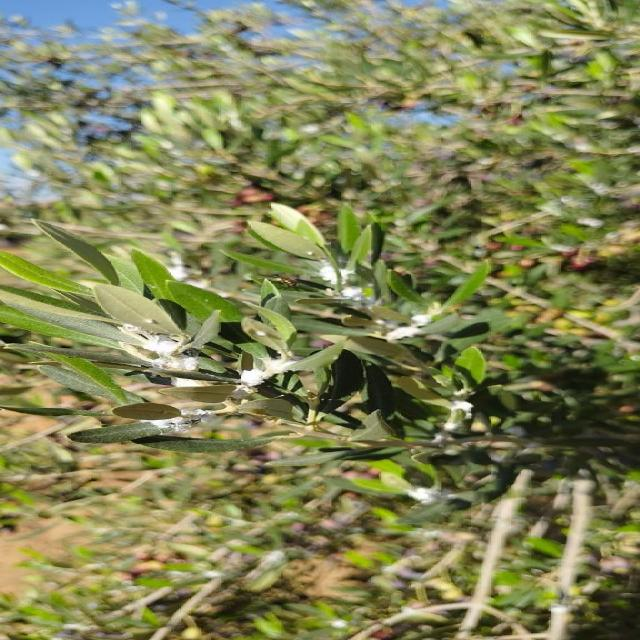Psyllid: (114, 324, 202, 372), (319, 261, 377, 310), (384, 302, 443, 342), (140, 409, 218, 436), (238, 356, 292, 391), (170, 377, 206, 387)
